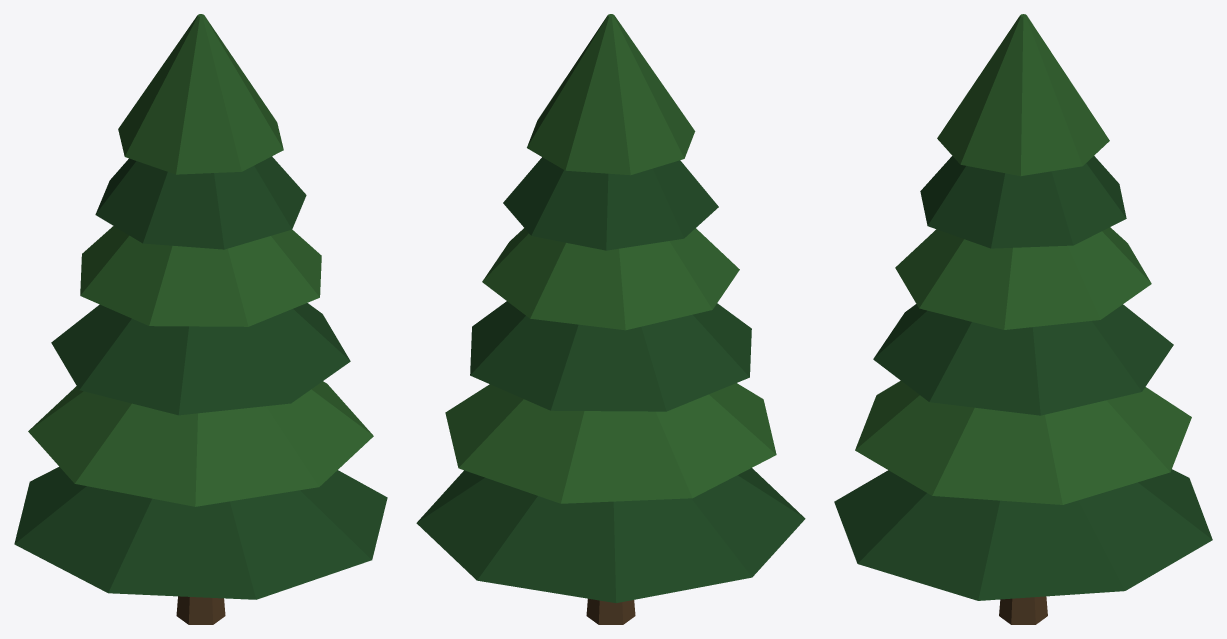
File: tree_pine_2.glb
3 views of the same model, side by side, from view 1: azimuth 30°, elevation 25°; view 2: azimuth 150°, elevation 25°; view 3: azimuth 270°, elevation 25° (orthographic).
Parts seen in each view (by area): view 1: tree_pine_2; view 2: tree_pine_2; view 3: tree_pine_2.
Part boxes in pixels (x1,y1,x2,y2): tree_pine_2: (14, 14, 387, 624); tree_pine_2: (416, 14, 805, 624); tree_pine_2: (834, 14, 1212, 624).
Size of what is drawn, in the model's own units: 5.41 by 9.46 by 5.41.
